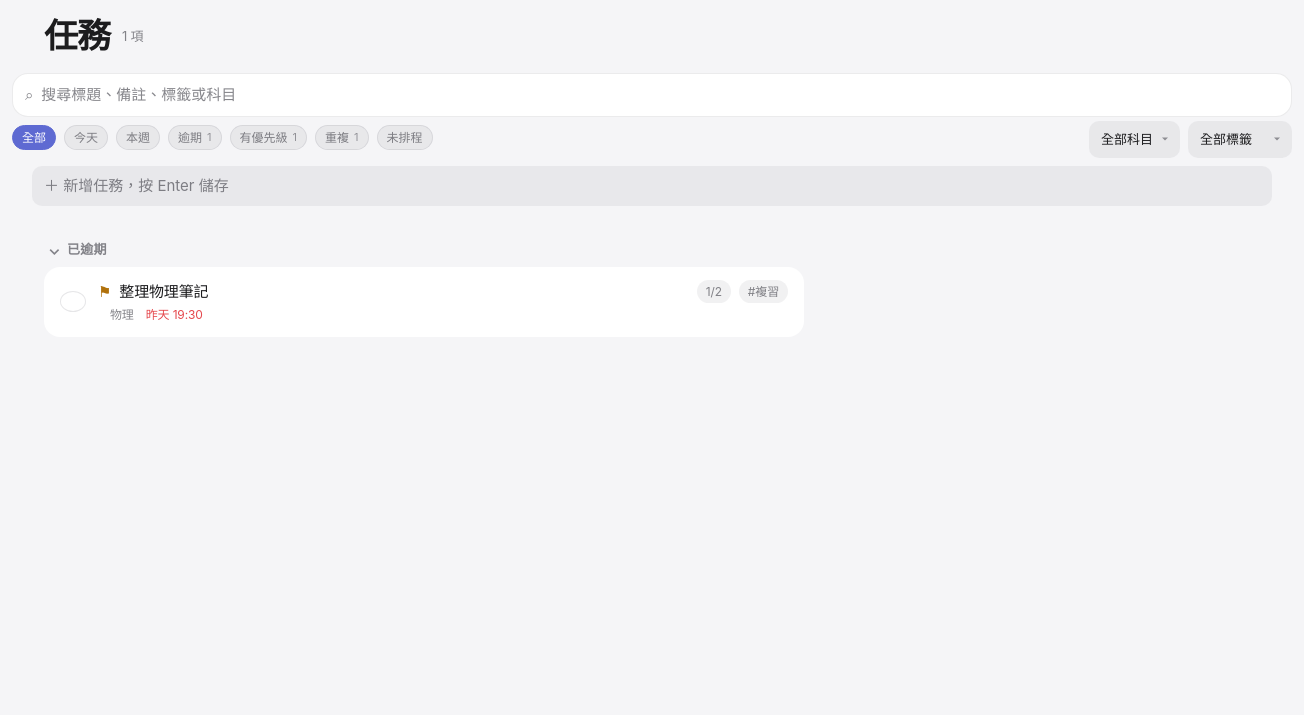
Test: 複製任務 › 保留一般任務內容，但不複製已完成子任務
The image size is (1304, 715).
Click the text "整理物理筆記" at {"x": 164, "y": 291}, box [119,282,208,301]
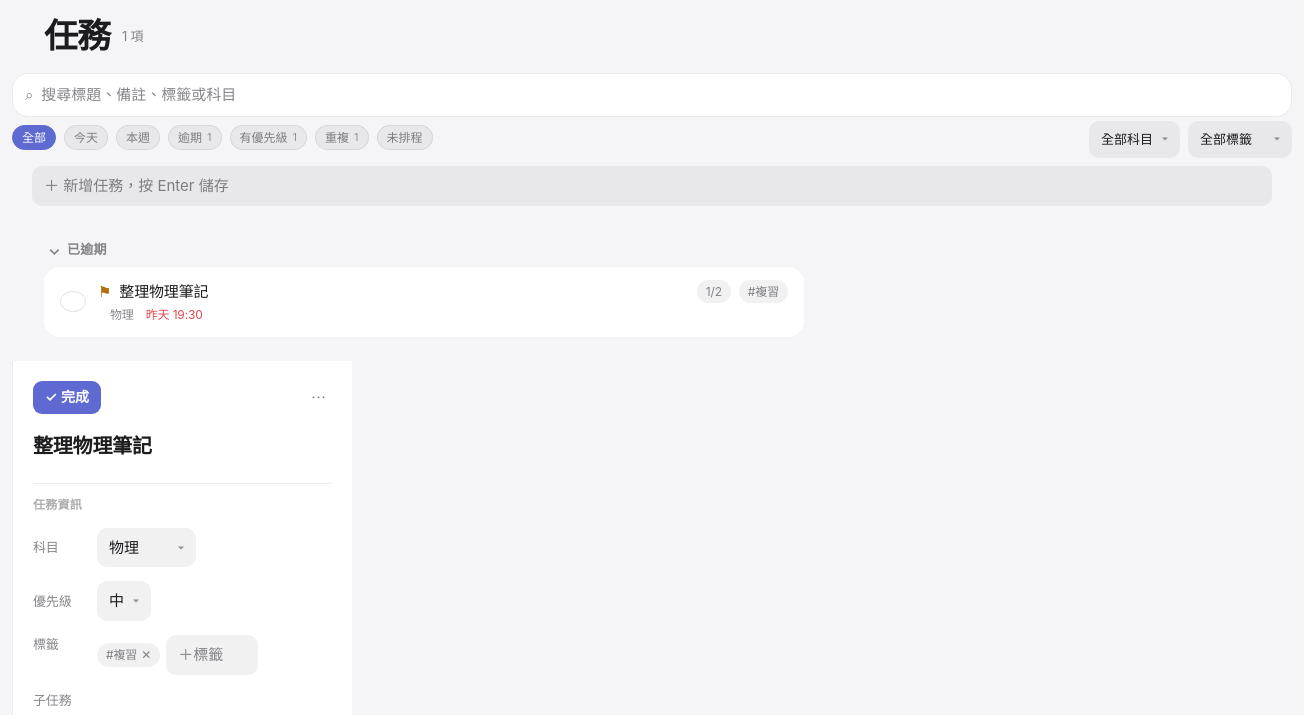
Click the button named "更多" at {"x": 318, "y": 398}, box [305,381,332,414]
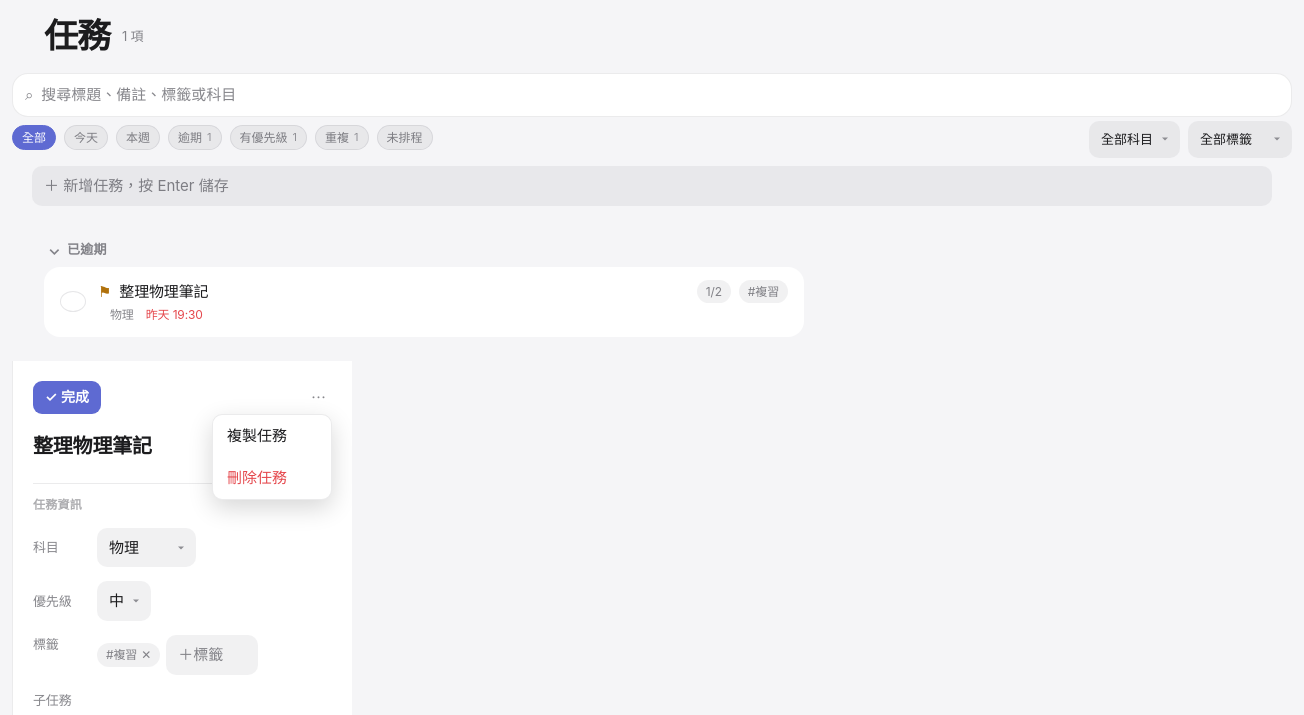
Click the menu item "複製任務" at {"x": 272, "y": 436}, box [213,415,331,457]
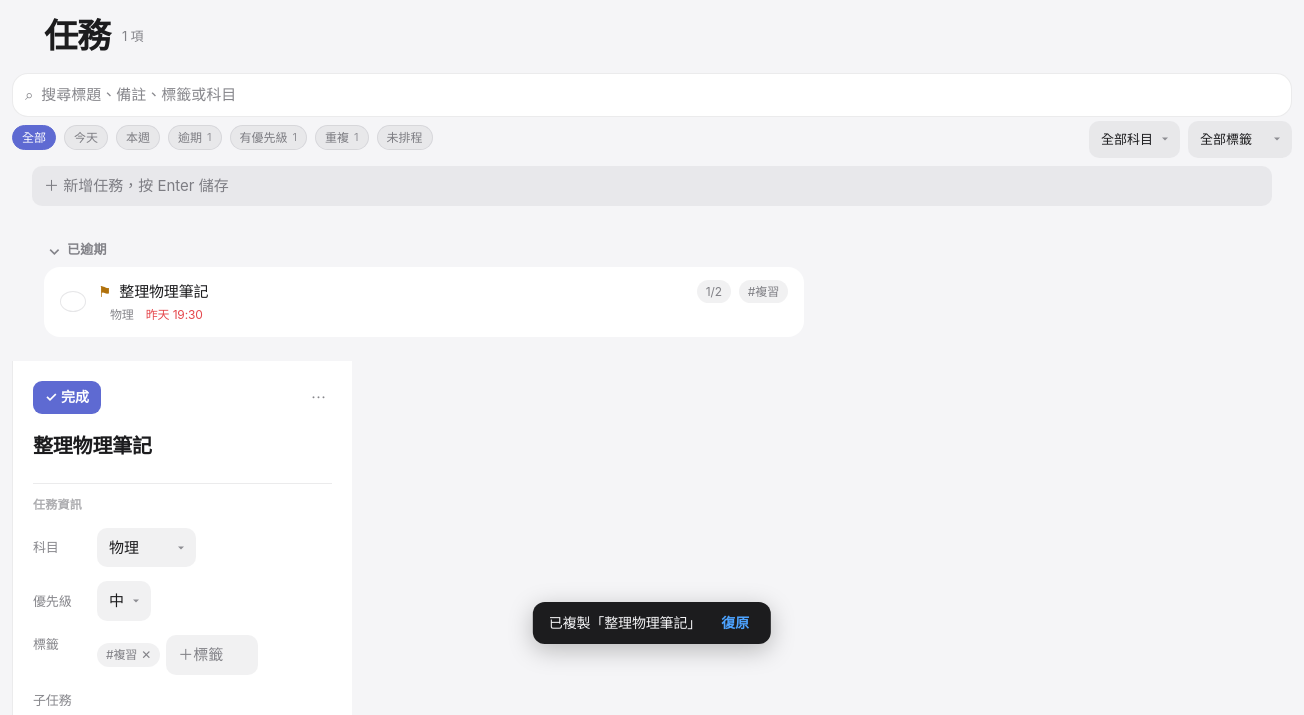
Expected: the text "已複製「整理物理筆記」" is shown, [549,613,701,633]
